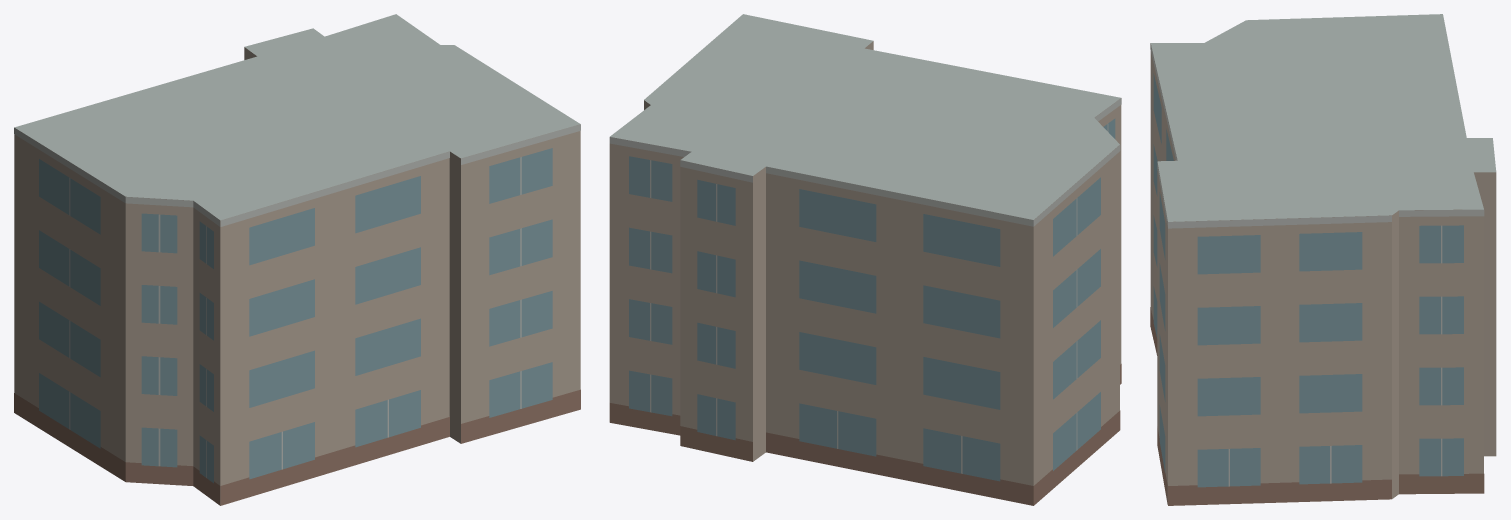
The model's file is survey-upis-32593402.glb.
3 views of the same model, side by side, from view 1: azimuth 30°, elevation 25°; view 2: azimuth 150°, elevation 25°; view 3: azimuth 270°, elevation 25° (orthographic).
Parts seen in each view (by area): view 1: survey-upis-32593402.tmp; view 2: survey-upis-32593402.tmp; view 3: survey-upis-32593402.tmp.
Boxes of the visible parts, left/top/right/bottom form: survey-upis-32593402.tmp: left=14, top=14, right=580, bottom=505; survey-upis-32593402.tmp: left=609, top=14, right=1121, bottom=505; survey-upis-32593402.tmp: left=1150, top=14, right=1496, bottom=505.
Bounding box in the file's own units: 16.34 × 10.4 × 11.49.
